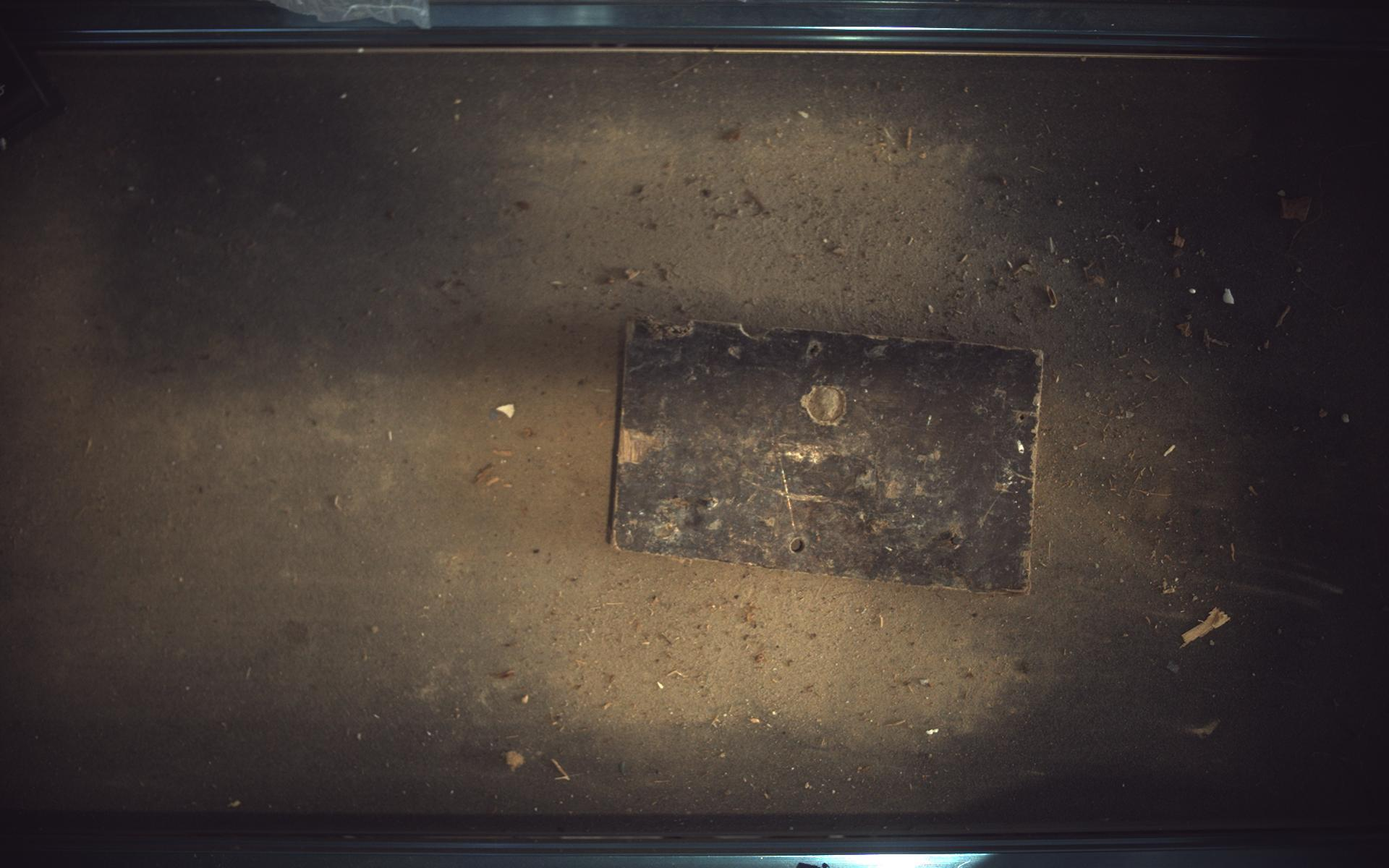wood: (612, 318, 1045, 593)
